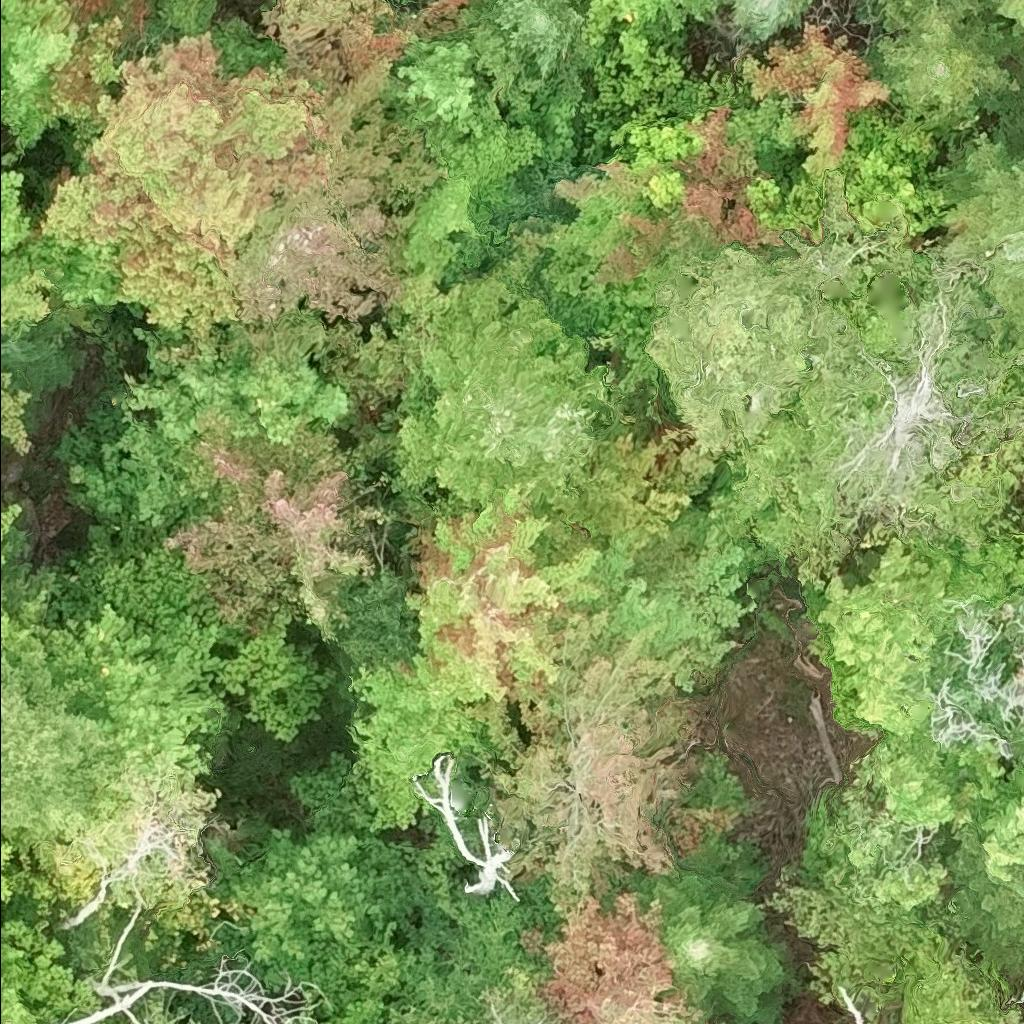crown: (37, 27, 345, 350), (226, 0, 475, 328), (803, 533, 1023, 888), (489, 617, 734, 909), (639, 167, 885, 453), (394, 238, 618, 511), (402, 477, 613, 760), (69, 319, 353, 529), (536, 106, 820, 307), (163, 425, 395, 643), (0, 0, 216, 159), (43, 600, 228, 778), (211, 821, 415, 965), (0, 634, 114, 874), (345, 653, 489, 834), (625, 863, 785, 1023), (520, 889, 706, 1023), (740, 22, 892, 178), (866, 3, 1023, 129), (822, 773, 952, 914), (942, 125, 1023, 347), (413, 756, 523, 909), (930, 596, 1023, 753), (834, 115, 951, 234), (461, 0, 585, 110), (150, 953, 330, 1023), (897, 931, 1023, 1023), (945, 829, 1023, 976), (396, 173, 493, 287), (0, 918, 102, 1023), (579, 25, 685, 126), (391, 22, 482, 137), (0, 308, 89, 414), (580, 0, 719, 49), (58, 979, 154, 1023), (0, 267, 55, 339), (875, 0, 991, 33), (729, 0, 814, 41), (0, 366, 34, 457), (0, 161, 32, 257), (988, 0, 1023, 35), (0, 497, 24, 541), (0, 837, 14, 903), (0, 84, 2, 105), (1, 1022, 10, 1023)
